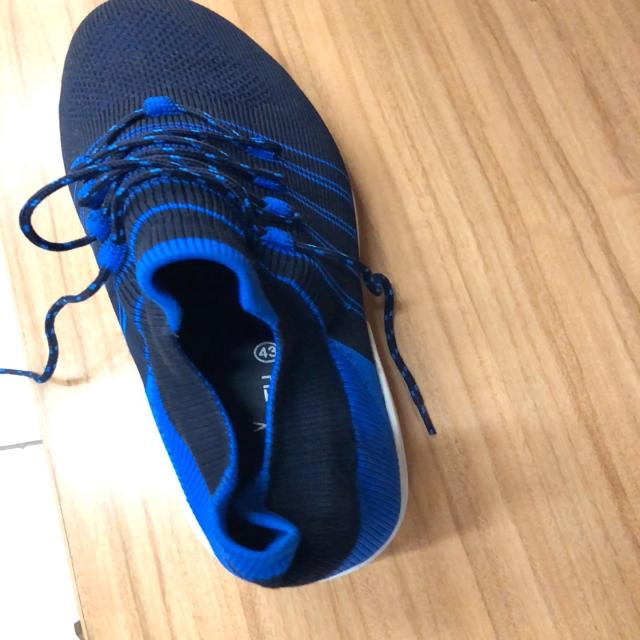shoe: (52, 0, 410, 592)
